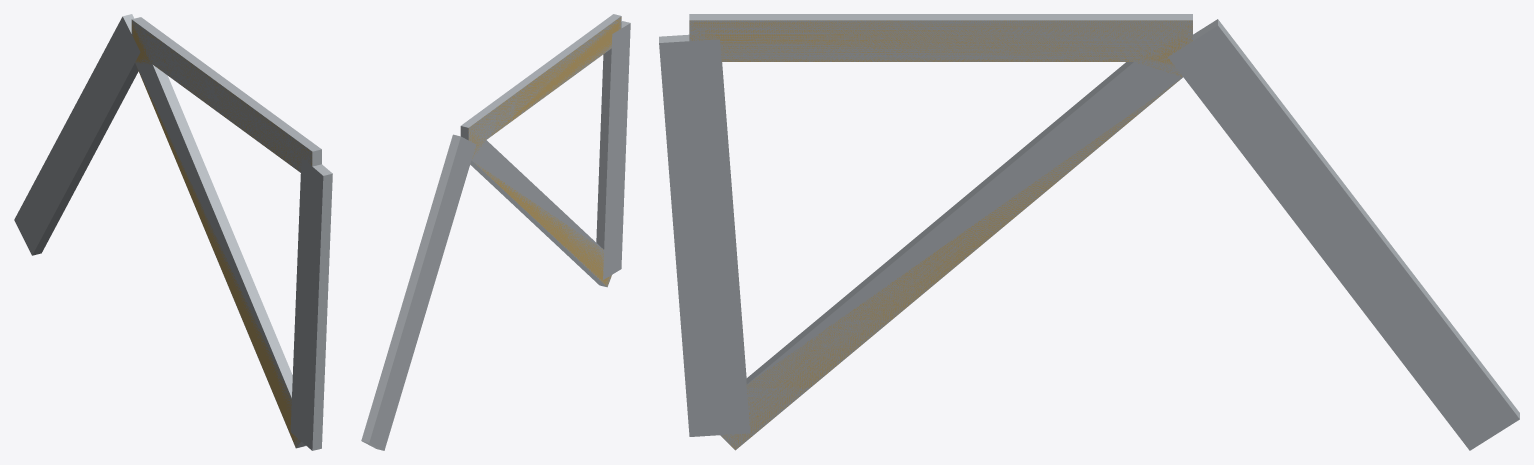
File: step_02.glb
The picture shows the model from 3 angles, left to right: view 1: azimuth 30°, elevation 25°; view 2: azimuth 150°, elevation 25°; view 3: azimuth 270°, elevation 25°; orthographic projection. The views are drawn at different scales.
Visible parts, largest first — view 1: part__leg, added__leg; view 2: part__leg, added__leg; view 3: part__leg, added__leg.
Part boxes in pixels (box(x1,y1,x2,y2)): part__leg: box(14, 14, 332, 450); added__leg: box(132, 20, 312, 447); part__leg: box(361, 14, 630, 450); added__leg: box(468, 17, 621, 286); part__leg: box(659, 14, 1519, 450); added__leg: box(689, 20, 1192, 449).
Bounding box in the file's own units: 10 × 311 × 564.
